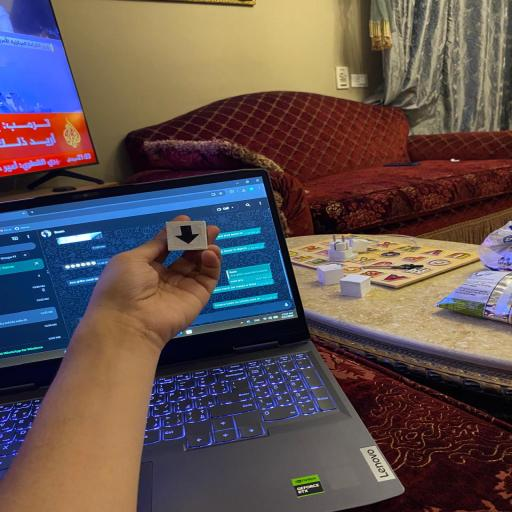Down: (165, 220, 209, 251)
